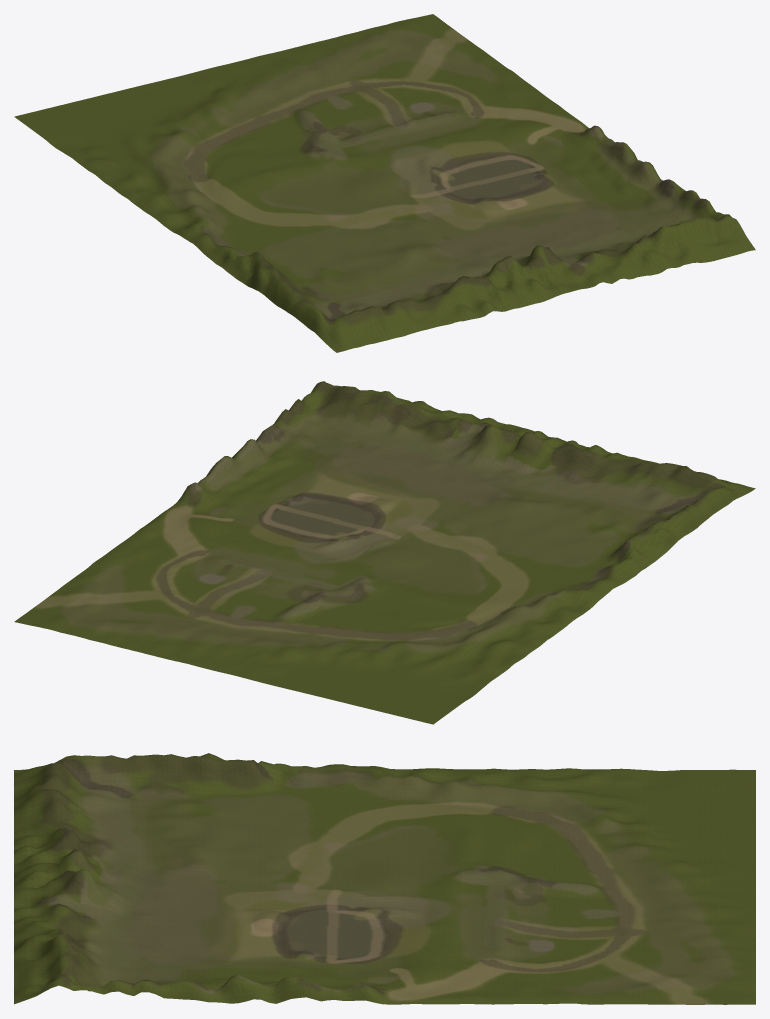
The model's file is WindEnergyTerrain.obj.
3 views of the same model, one above another, from view 1: azimuth 30°, elevation 25°; view 2: azimuth 150°, elevation 25°; view 3: azimuth 270°, elevation 25° (orthographic). The views are drawn at different scales.
Visible parts, largest first — view 1: WindEnergyTerrain; view 2: WindEnergyTerrain; view 3: WindEnergyTerrain.
Part boxes in pixels (x1,y1,x2,y2): WindEnergyTerrain: (14, 14, 755, 352); WindEnergyTerrain: (14, 381, 755, 724); WindEnergyTerrain: (14, 753, 755, 1004).
Bounding box in the file's own units: 1500 × 96.47 × 2000.
1 material, 1 textured.
